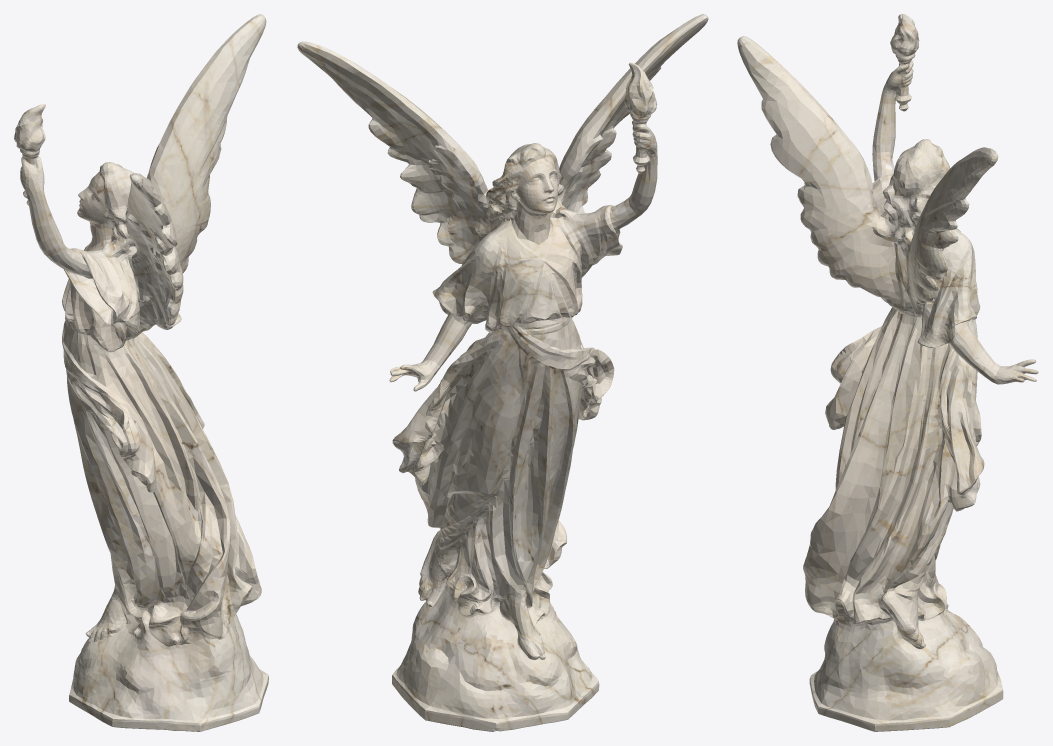
Rendered from lucy.obj.
The picture shows the model from 3 angles, left to right: view 1: azimuth 30°, elevation 25°; view 2: azimuth 150°, elevation 25°; view 3: azimuth 270°, elevation 25°; orthographic projection. The views are drawn at different scales.
Visible parts, largest first — view 1: default.001; view 2: default.001; view 3: default.001.
Part boxes in pixels (x1,y1,x2,y2): default.001: (14, 14, 268, 731); default.001: (297, 14, 708, 731); default.001: (737, 14, 1038, 731).
Size of the model in its own units: 3.18 by 6.42 by 2.85.
1 material, 1 textured.
